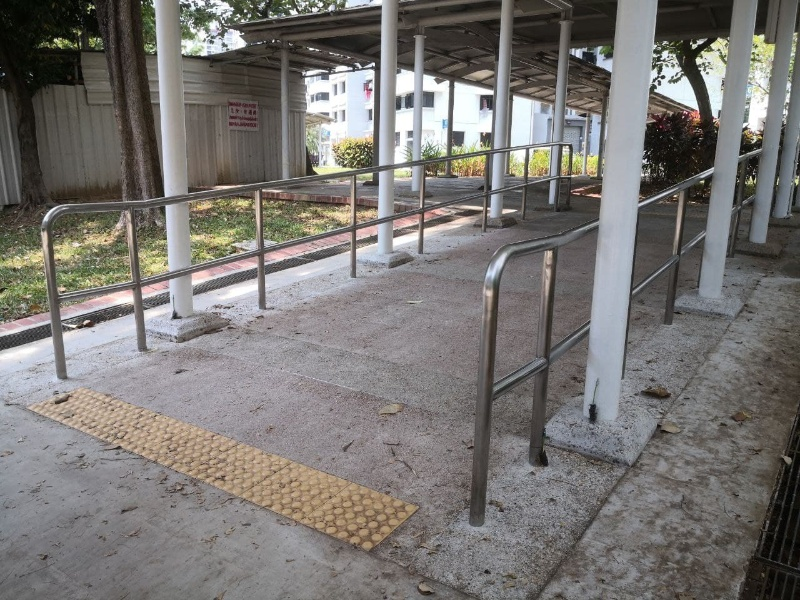slope: (38, 182, 507, 540)
